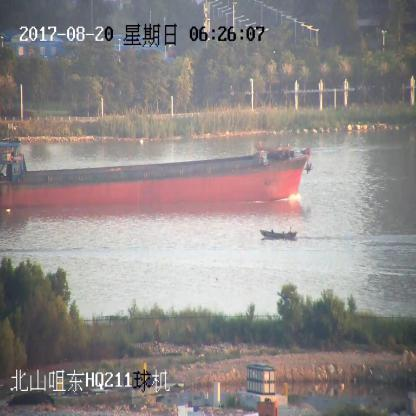Fishing Boat: (260, 226, 298, 242)
